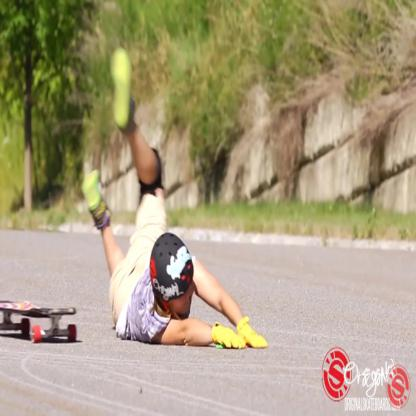Fall_Down: (79, 44, 275, 357)
